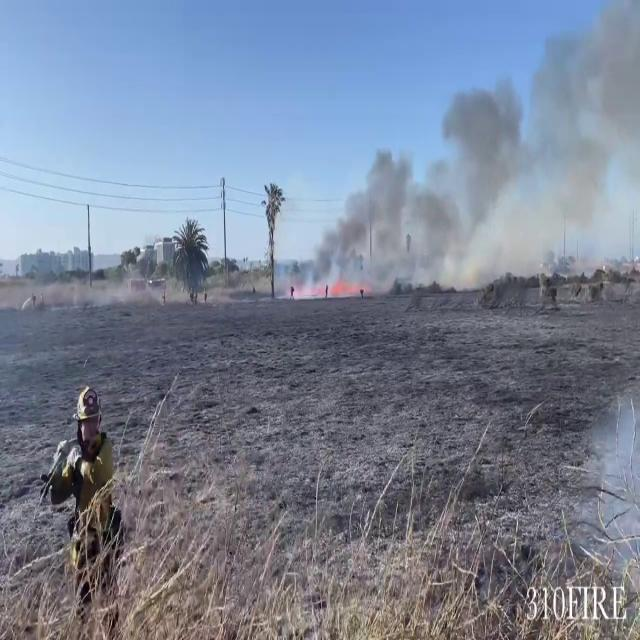Smoke: (290, 29, 640, 304)
